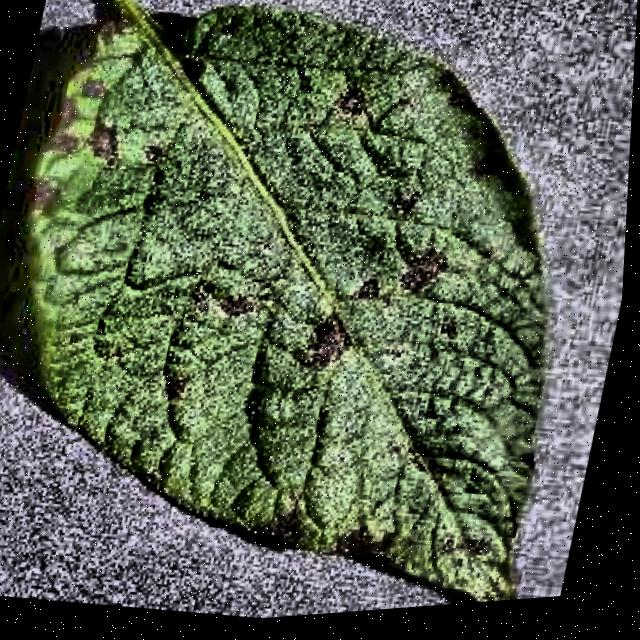Potato_leaf_early_blight: (28, 0, 545, 603)
